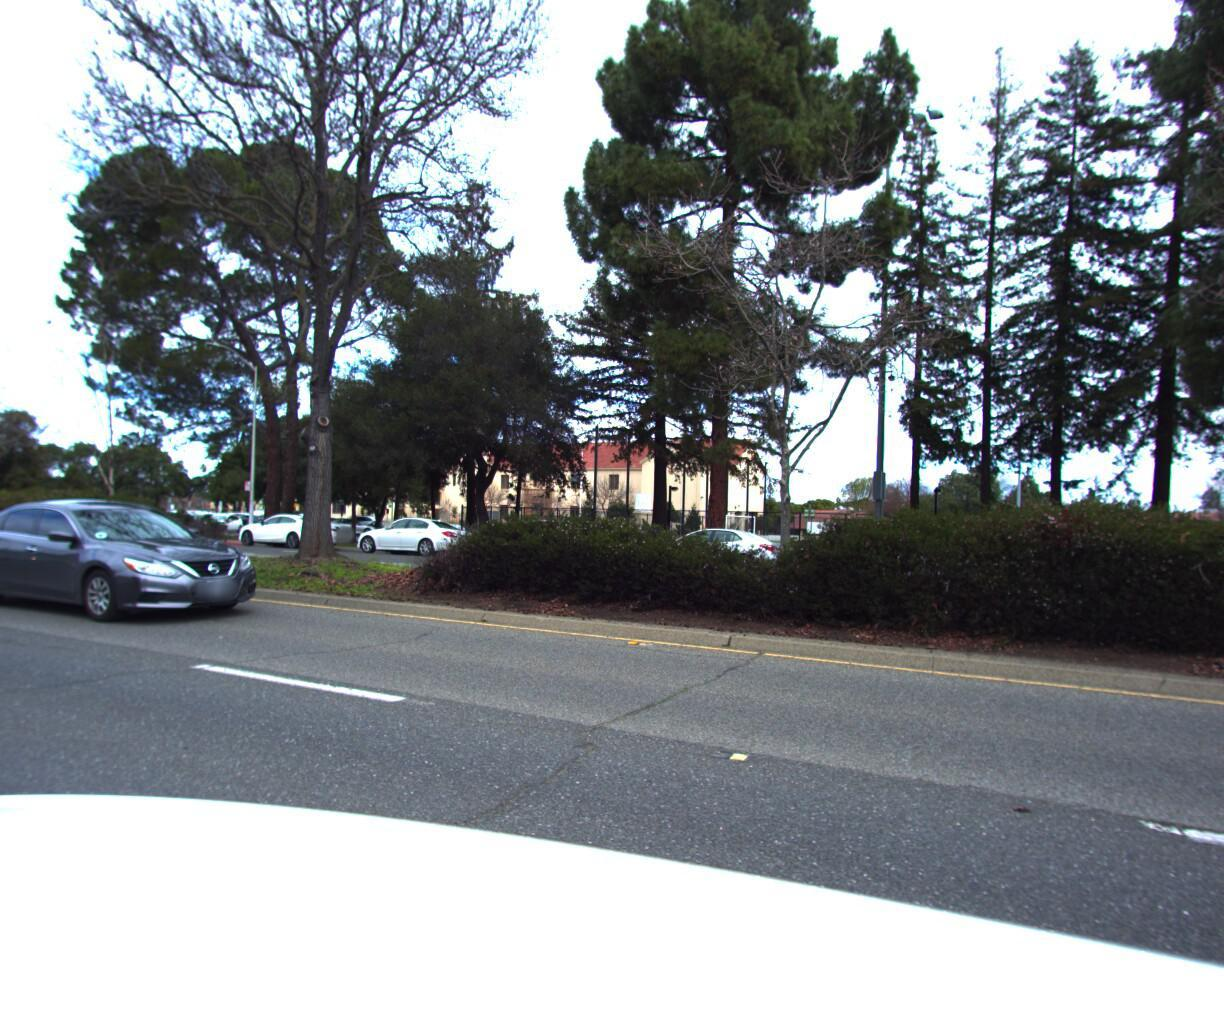car: (0, 495, 281, 633), (628, 515, 791, 575), (470, 507, 615, 562), (356, 506, 483, 552), (235, 505, 346, 546)
